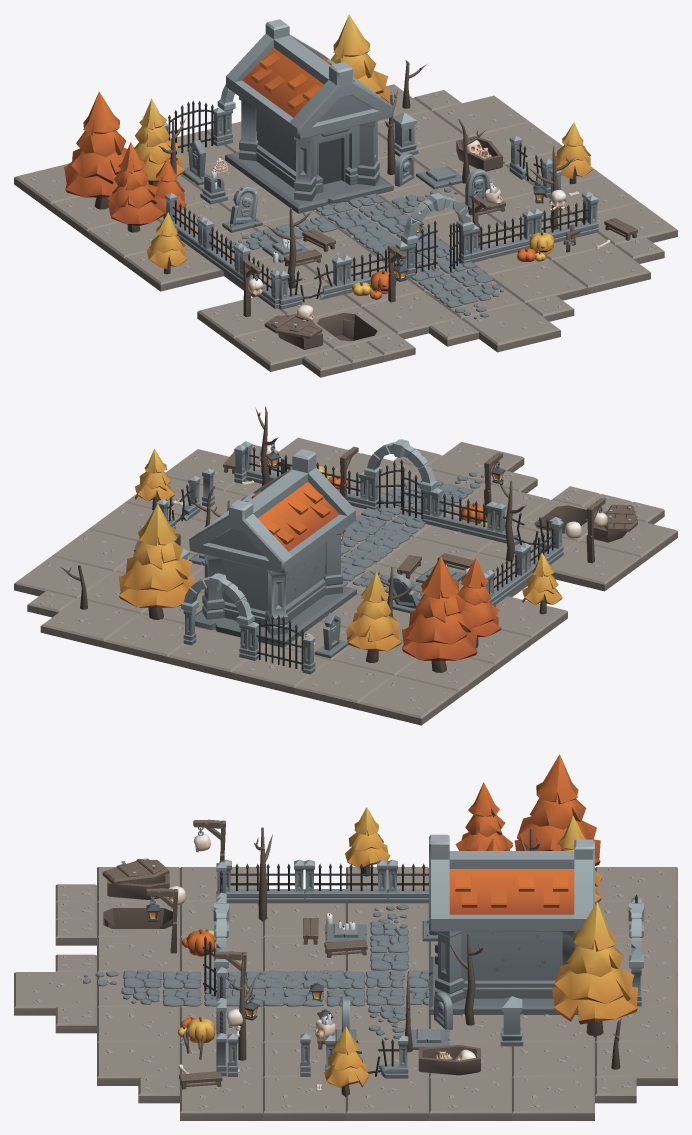
File: GHOST-compressed.glb
The picture shows the model from 3 angles, top to bottom: view 1: azimuth 30°, elevation 25°; view 2: azimuth 150°, elevation 25°; view 3: azimuth 270°, elevation 25°; orthographic projection. The views are drawn at different scales.
Parts seen in each view (by area): view 1: floor_dirt, crypt, fence007, tree_pine_orange_large, tree_pine_orange_medium, tree_pine_yellow_large, tree_pine_yellow_medium, arch_gate, path_A, fence_broken002, tree_pine_yellow_small, tree_pine_yellow_small001 (+19 smaller); view 2: floor_dirt, crypt, fence007, tree_pine_orange_large, tree_pine_yellow_large, tree_pine_yellow_medium, arch, arch_gate, tree_pine_orange_medium, path_B003, tree_pine_yellow_small, tree_pine_yellow_small001 (+15 smaller); view 3: floor_dirt, crypt, fence007, tree_pine_yellow_large, tree_pine_orange_large, path_B005, path_A, tree_pine_orange_medium, path_B003, coffin_decorated, tree_pine_yellow_small001, tree_pine_yellow_small (+25 smaller).
Boxes of the visible parts, <box> form: floor_dirt: <box>14,84,677,377</box>; crypt: <box>225,19,393,213</box>; fence007: <box>165,193,598,308</box>; tree_pine_orange_large: <box>64,91,137,209</box>; tree_pine_orange_medium: <box>107,142,164,232</box>; tree_pine_yellow_large: <box>331,14,389,102</box>; tree_pine_yellow_medium: <box>134,98,185,185</box>; arch_gate: <box>401,192,474,278</box>; path_A: <box>315,193,402,229</box>; fence_broken002: <box>279,257,344,309</box>; tree_pine_yellow_small: <box>146,212,187,274</box>; tree_pine_yellow_small001: <box>552,122,592,184</box>; floor_dirt: <box>14,437,677,725</box>; crypt: <box>189,449,356,647</box>; fence007: <box>241,441,563,604</box>; tree_pine_orange_large: <box>402,556,477,672</box>; tree_pine_yellow_large: <box>119,503,194,619</box>; tree_pine_yellow_medium: <box>346,572,401,663</box>; arch: <box>181,573,254,658</box>; arch_gate: <box>364,439,437,524</box>; tree_pine_orange_medium: <box>457,557,501,647</box>; path_B003: <box>347,504,425,540</box>; tree_pine_yellow_small: <box>522,552,562,614</box>; tree_pine_yellow_small001: <box>134,449,174,510</box>; floor_dirt: <box>14,867,677,1120</box>; crypt: <box>429,834,594,1014</box>; fence007: <box>216,859,428,1076</box>; tree_pine_yellow_large: <box>552,902,637,1037</box>; tree_pine_orange_large: <box>514,754,600,865</box>; path_B005: <box>285,971,365,1006</box>; path_A: <box>365,970,428,1005</box>; tree_pine_orange_medium: <box>455,782,512,850</box>; path_B003: <box>204,971,284,1006</box>; coffin_decorated: <box>418,1045,480,1075</box>; tree_pine_yellow_small001: <box>324,1026,369,1096</box>; tree_pine_yellow_small: <box>345,807,390,876</box>.
Bounding box in the file's own units: 28.18 × 9.5 × 32.
Materials: 1 (1 with a texture image).
